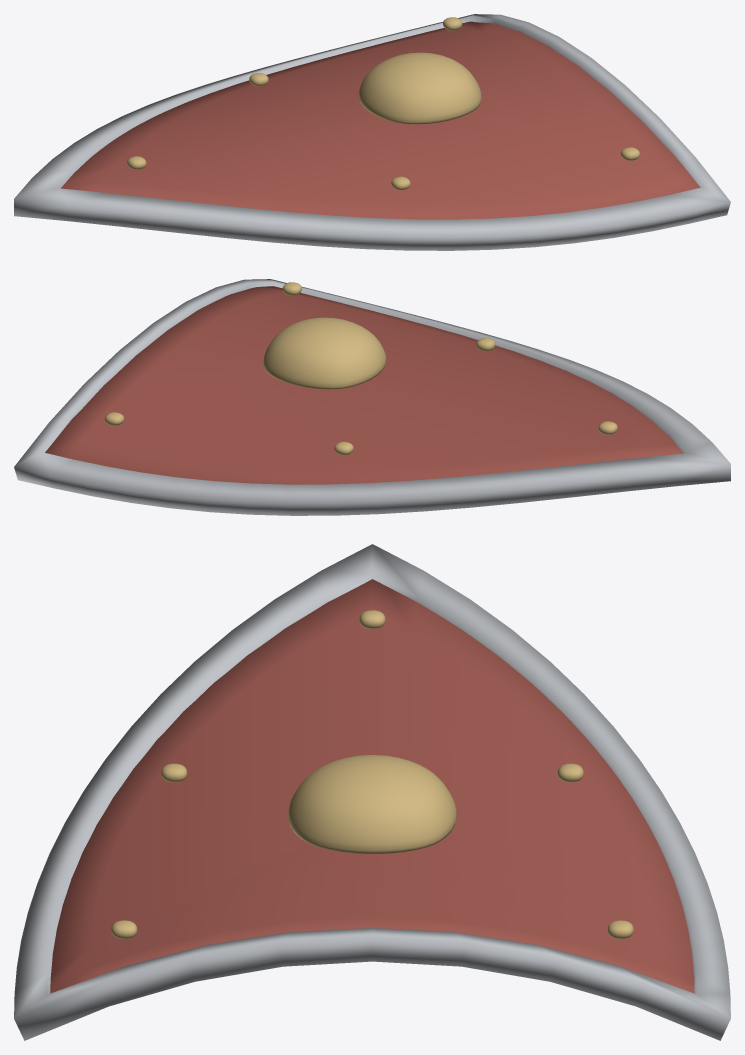
File: shield.glb
3 views of the same model, one above another, from view 1: azimuth 30°, elevation 25°; view 2: azimuth 150°, elevation 25°; view 3: azimuth 270°, elevation 25° (orthographic). The views are drawn at different scales.
Visible parts, largest first — view 1: shield; view 2: shield; view 3: shield.
Part boxes in pixels (bbox=[...]): shield: bbox=[14, 14, 730, 250]; shield: bbox=[14, 279, 730, 515]; shield: bbox=[14, 544, 730, 1040].
Bounding box in the file's own units: 0.64 × 0.1114 × 0.4836.
